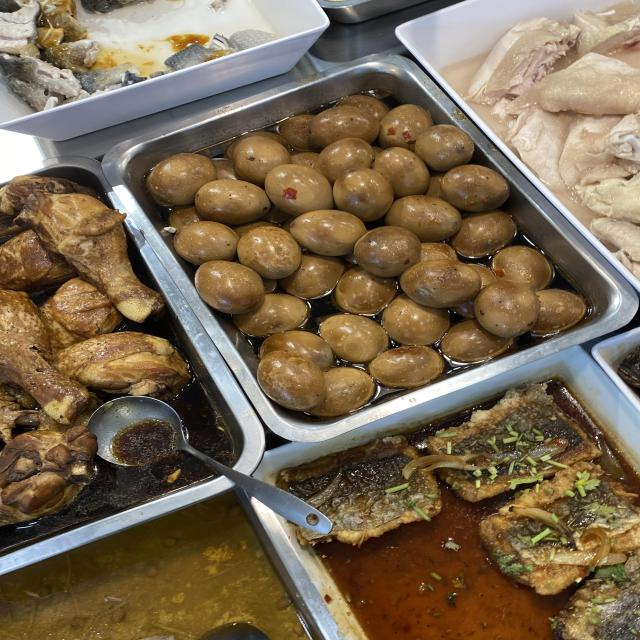braised egg: (228, 157, 482, 335)
